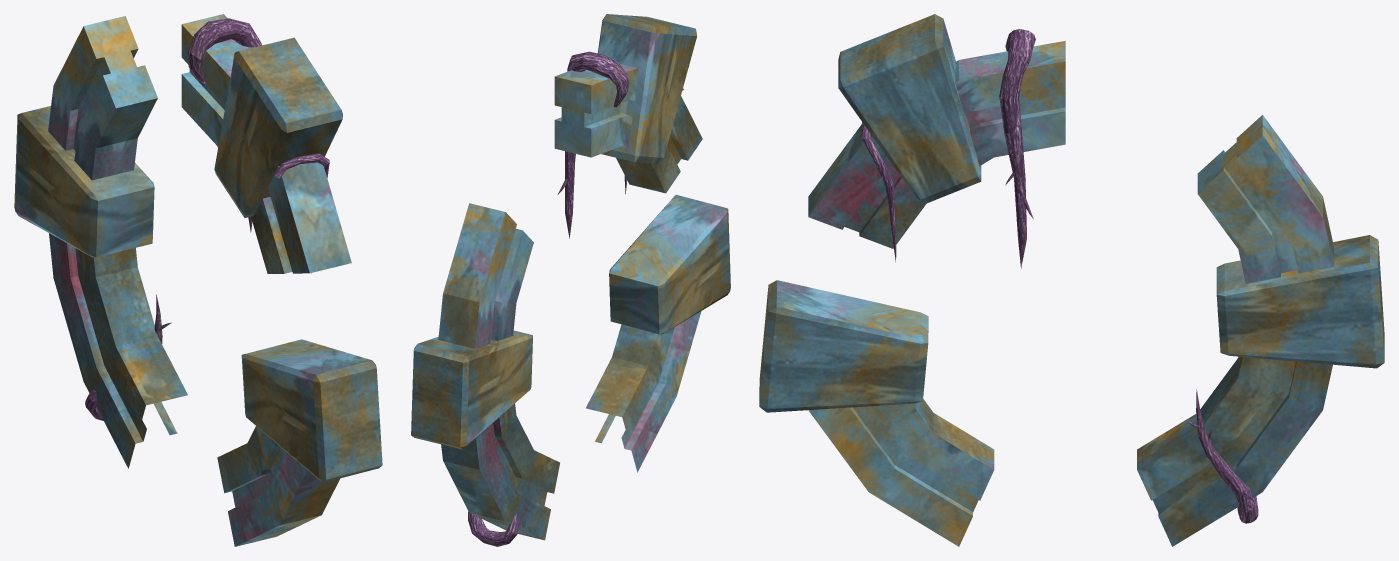
The model's file is s0_Str_Portal_02_Art_01.glb.
3 views of the same model, side by side, from view 1: azimuth 30°, elevation 25°; view 2: azimuth 150°, elevation 25°; view 3: azimuth 270°, elevation 25° (orthographic). The views are drawn at different scales.
Visible parts, largest first — view 1: node_Str_Portal_02_Art; view 2: node_Str_Portal_02_Art; view 3: node_Str_Portal_02_Art.
Part boxes in pixels (left/top/right/bottom): node_Str_Portal_02_Art: left=14, top=14, right=382, bottom=546; node_Str_Portal_02_Art: left=411, top=14, right=730, bottom=546; node_Str_Portal_02_Art: left=759, top=14, right=1384, bottom=546.
Size of what is drawn, in the model's own units: 1.71 by 11.57 by 12.9.
Materials: 2 (2 with a texture image).
